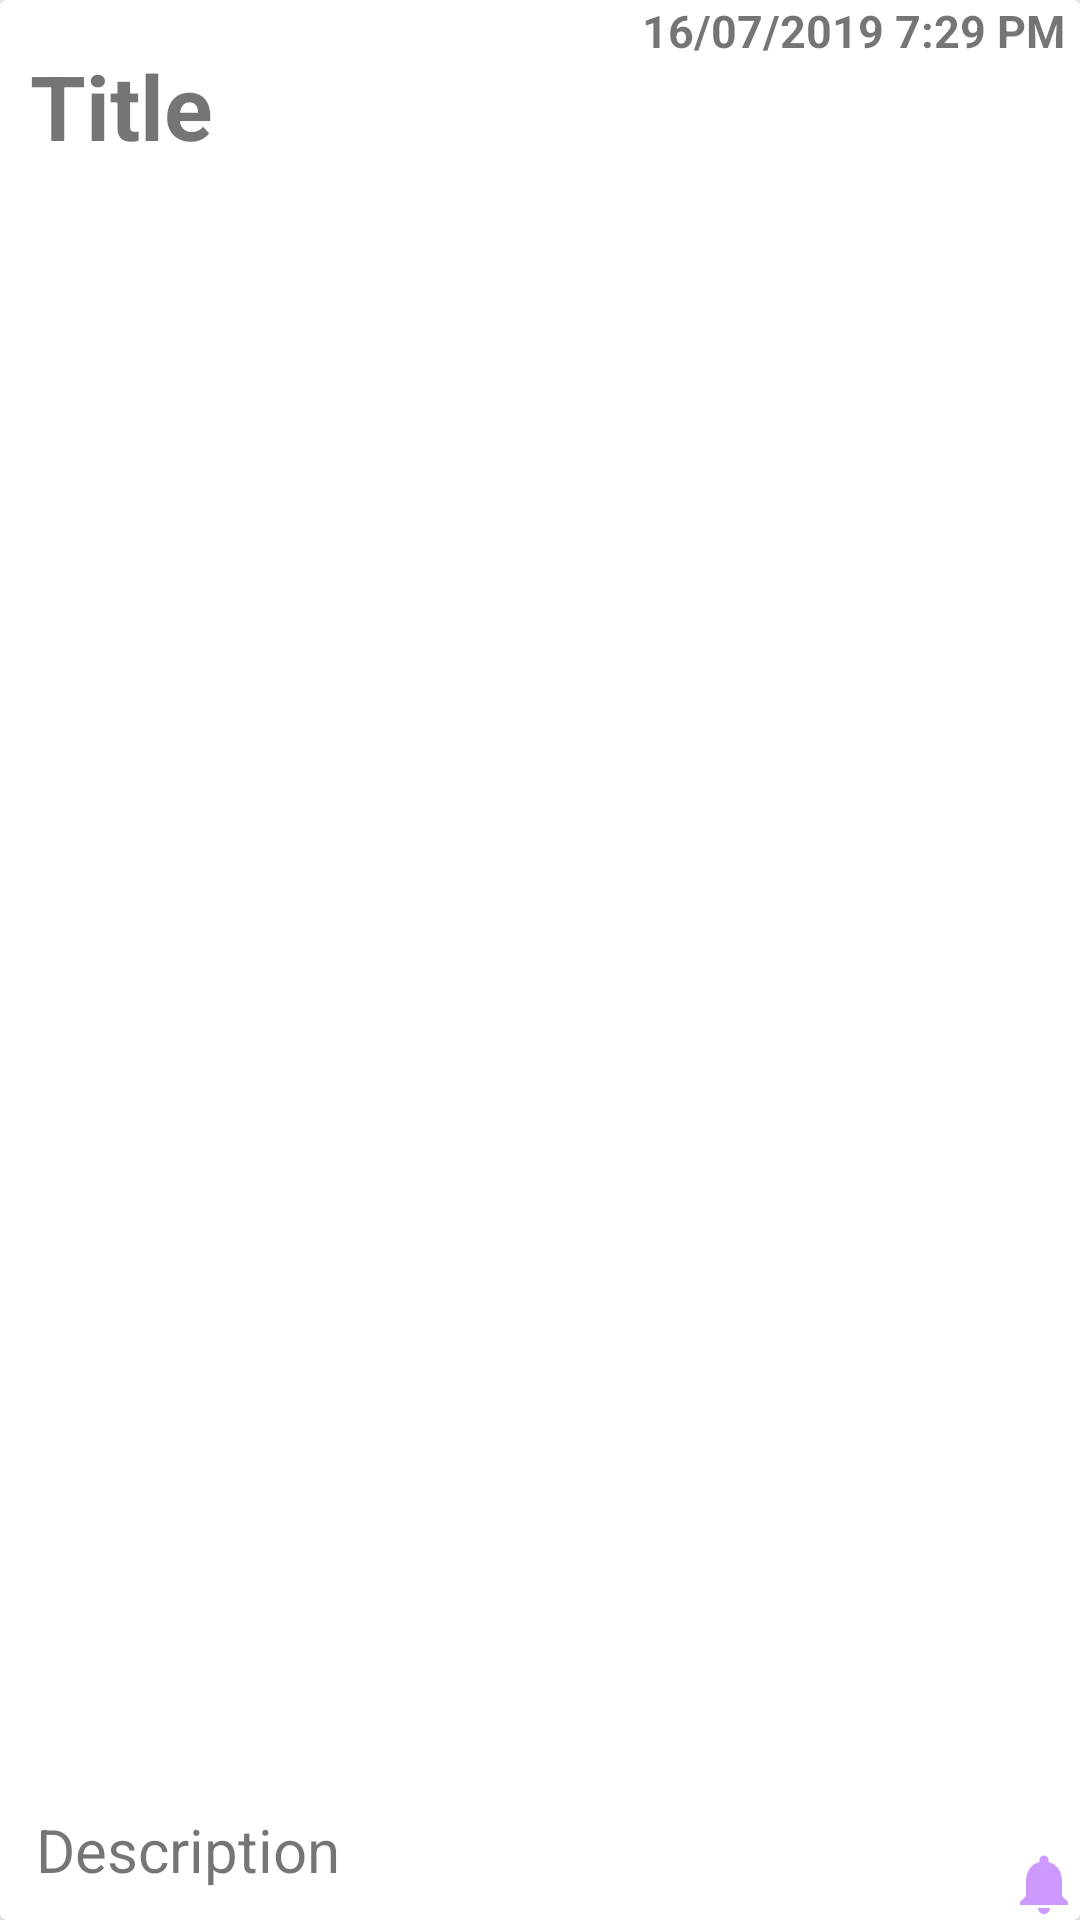

Screen size 1080*1920. Icon name, then its center in pixels as (x=x, y=y):
reminder icon: (x=1050, y=1887)
